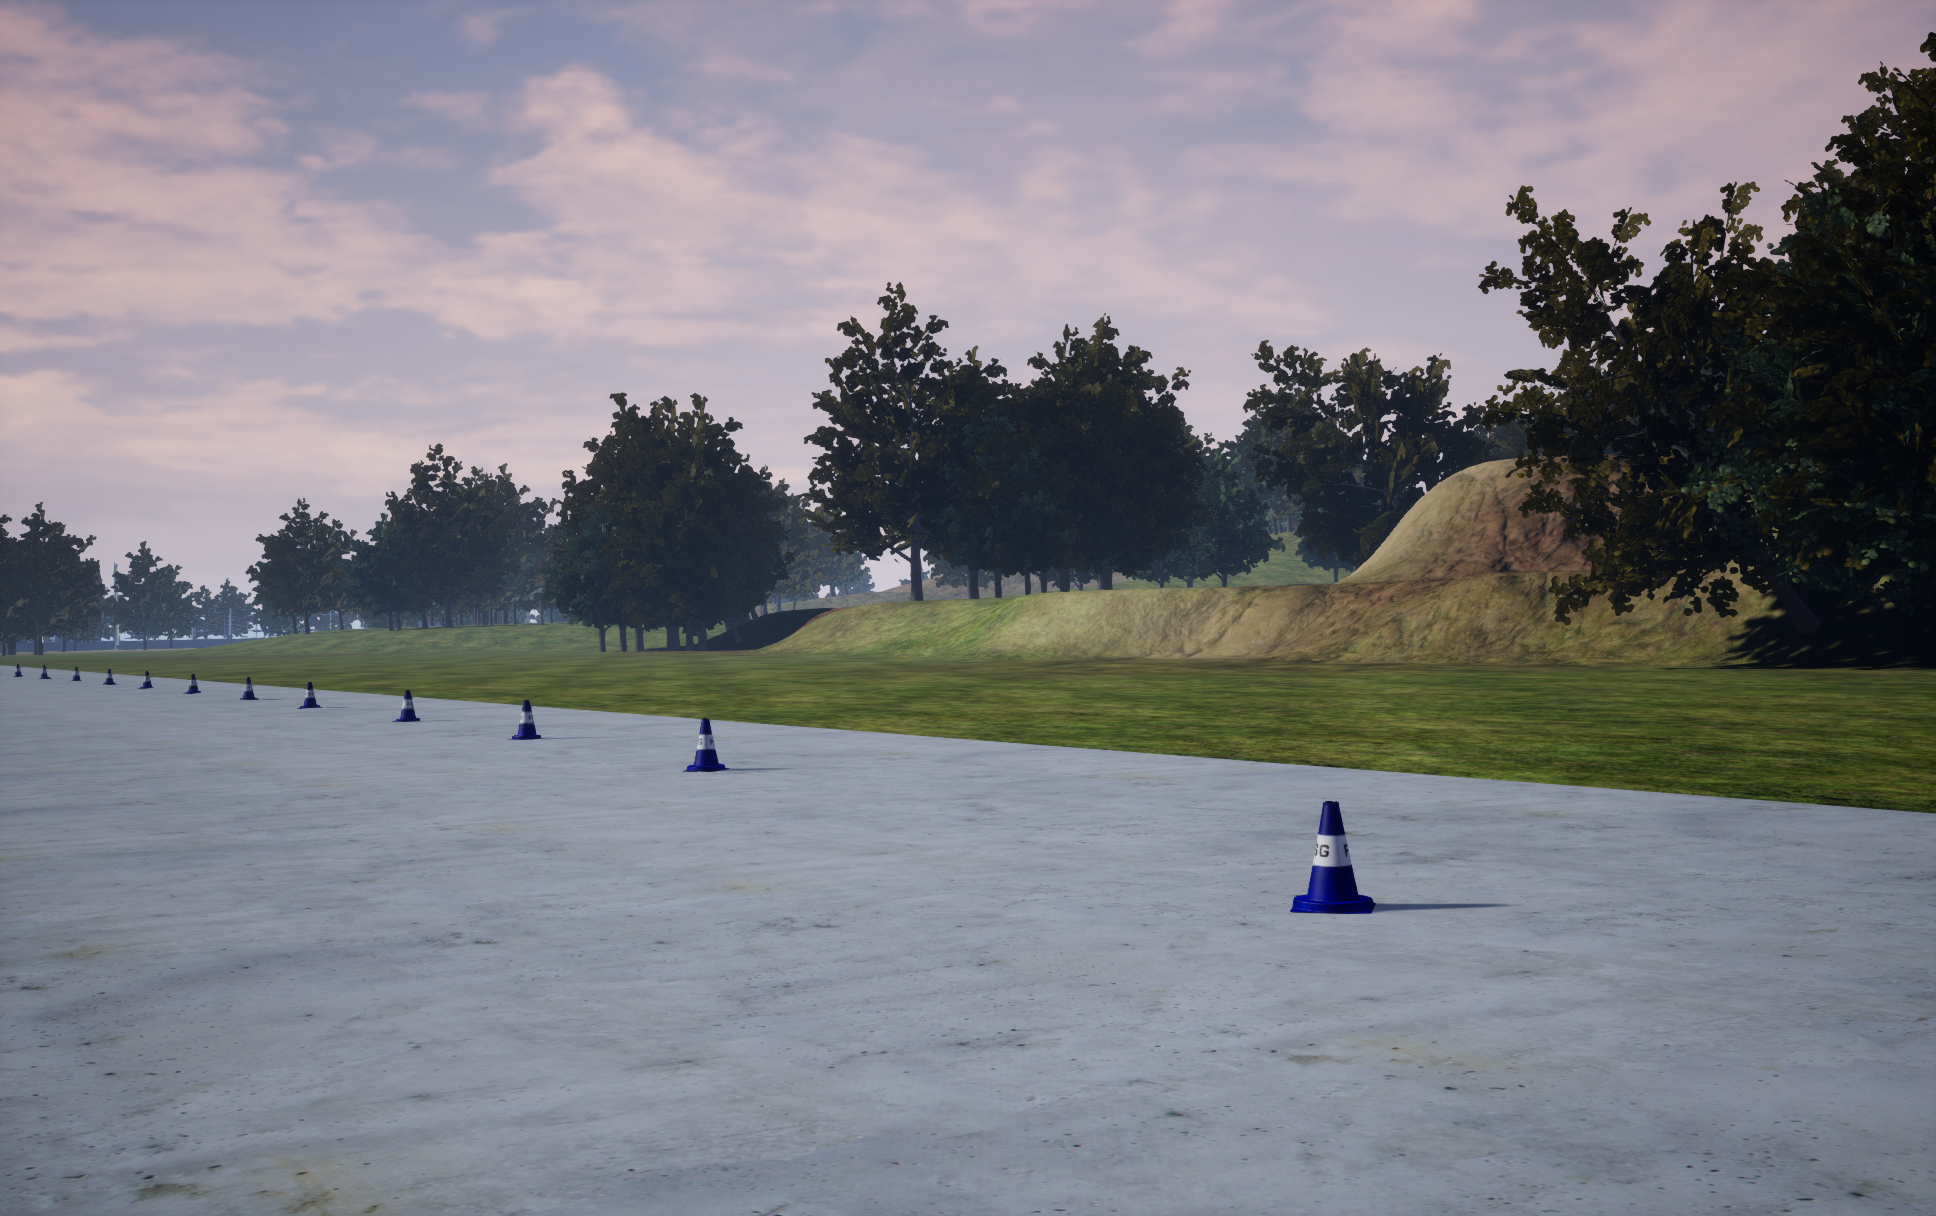yellow: (1290, 801, 1376, 913), (682, 719, 728, 771), (507, 700, 541, 740), (392, 691, 419, 721), (297, 682, 322, 707), (240, 677, 259, 699), (184, 674, 200, 693)
